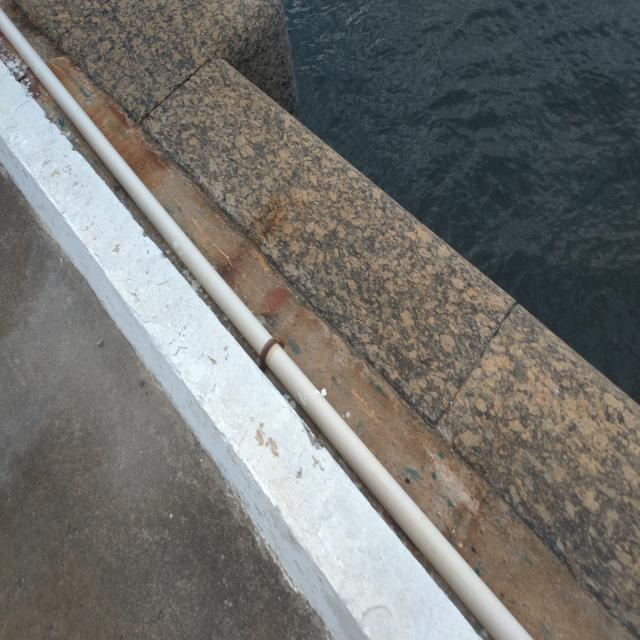gas: (0, 6, 531, 639)
